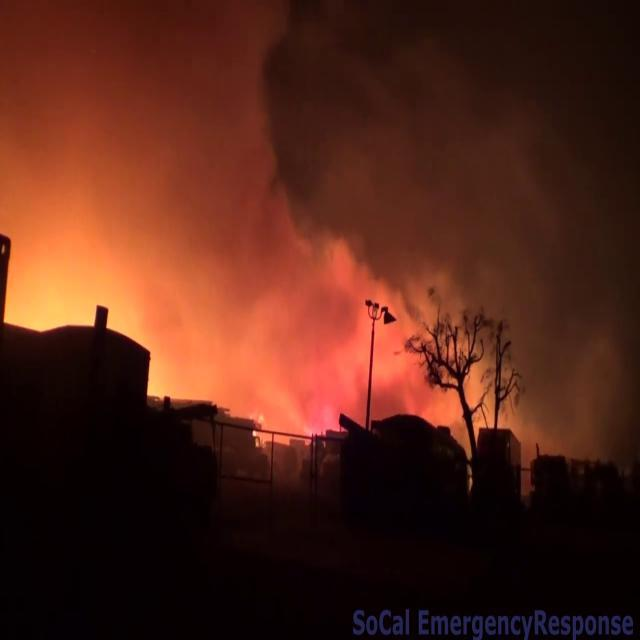Smoke: (5, 2, 640, 448)
